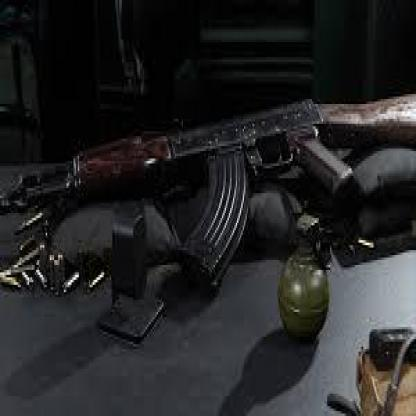Grenade: (275, 208, 333, 344)
Gun: (0, 87, 413, 288)
